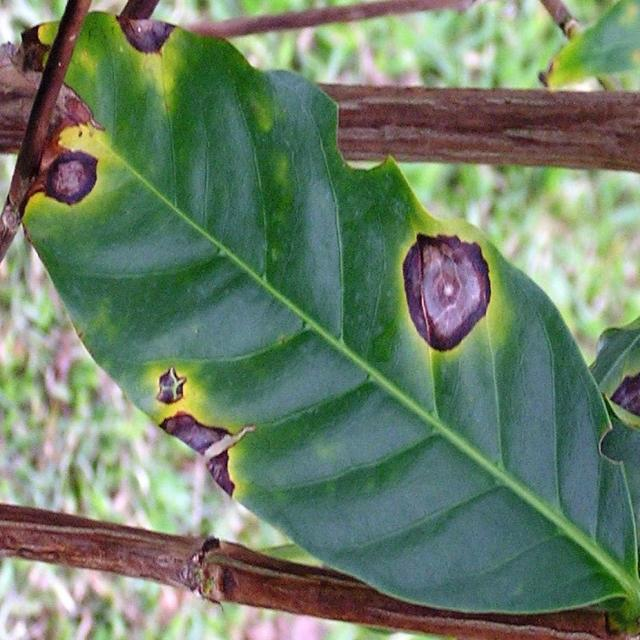Enfermedad-Mancha-de-hierro: (19, 9, 640, 640)
